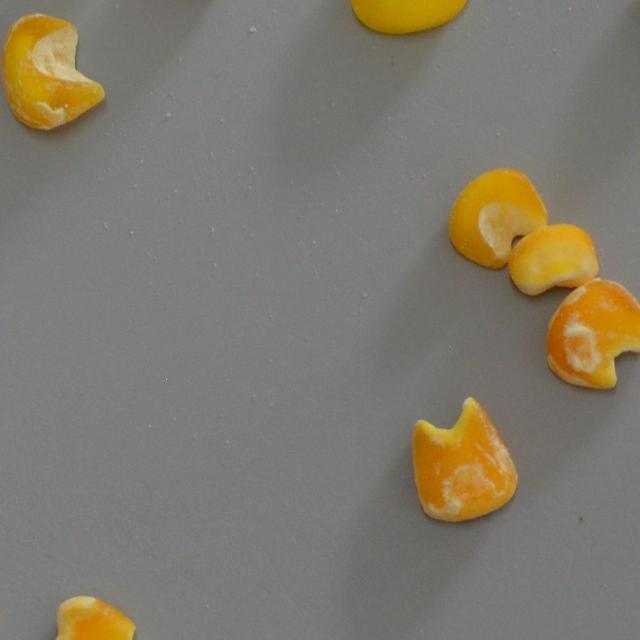no_canjicado: (448, 166, 548, 269), (506, 224, 599, 296), (17, 594, 134, 640), (350, 0, 468, 34)
pelicula: (410, 398, 518, 524), (0, 10, 104, 133), (546, 278, 640, 391)
